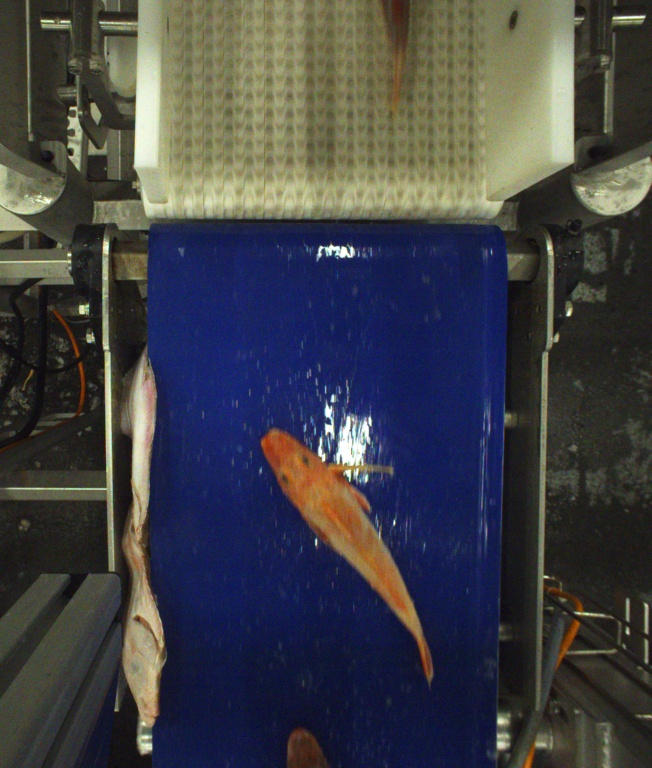GUU: (378, 0, 411, 114)
